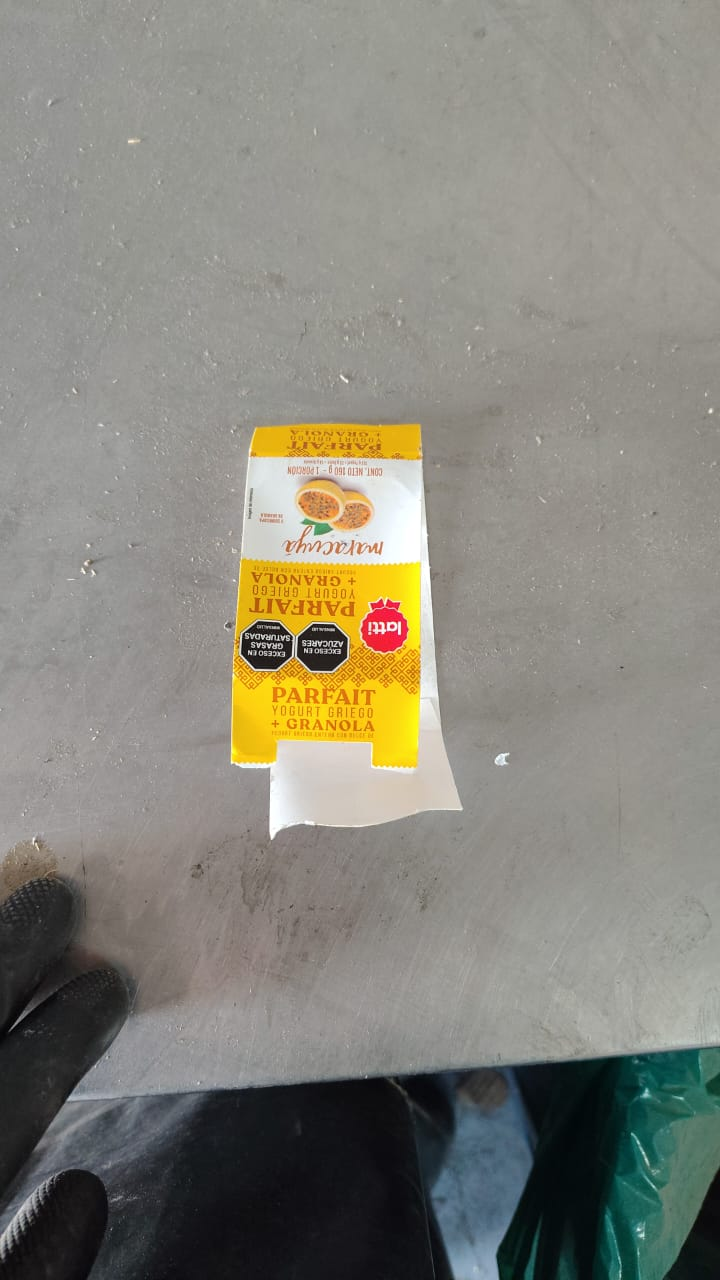Carton: (230, 427, 477, 844)
